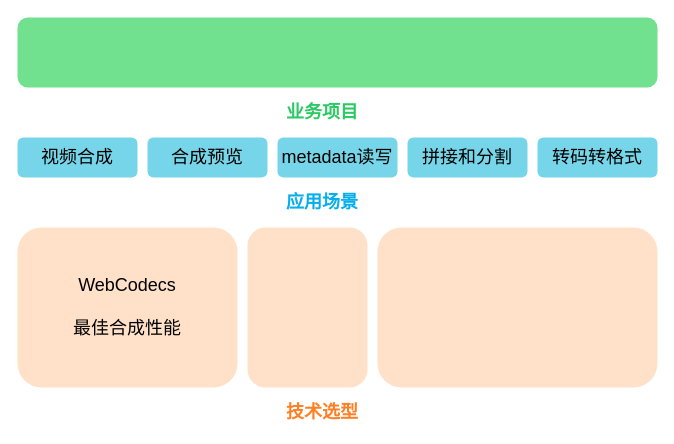
The diagram is 674 pixels wide and 444 high, and some of its shapes have lost their labels. The shapes that lost their labels are listed below. From the top down, each one's centre as x and y in pixels, then its label:
At [337,52]: "必剪studio".
At [307,307]: "libav / C++ 合成预览功能".
At [517,307]: "FFmpeg 最佳合成兼容性 + 其他音视频能力".
